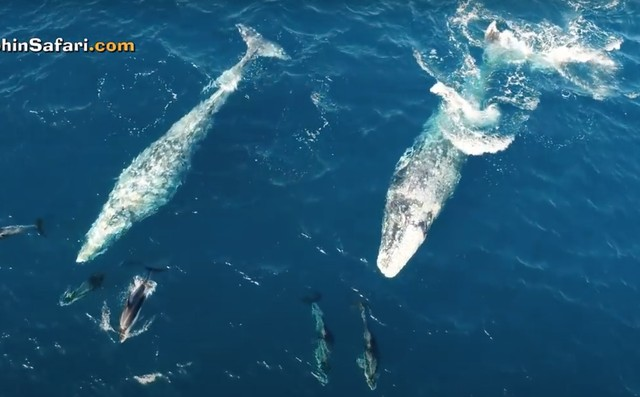whalew: (69, 15, 297, 275), (371, 9, 539, 288)
